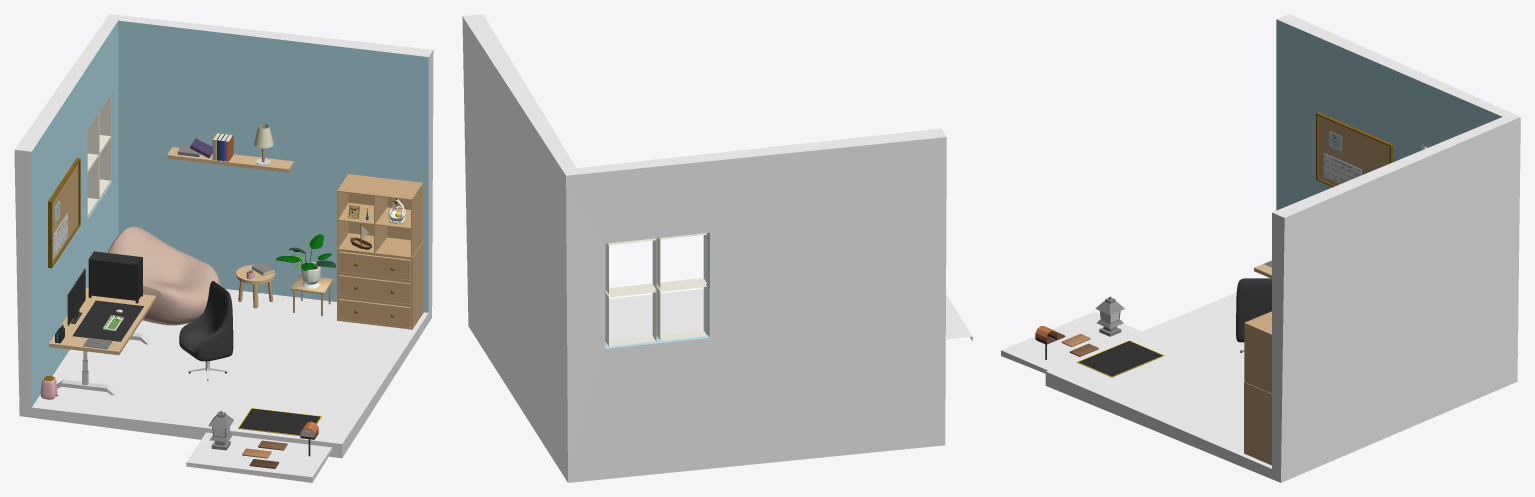
Rendered from finale.glb.
The picture shows the model from 3 angles, left to right: view 1: azimuth 30°, elevation 25°; view 2: azimuth 150°, elevation 25°; view 3: azimuth 270°, elevation 25°; orthographic projection. The views are drawn at different scales.
Parts seen in each view (by area): view 1: Room, Cube.021, Cube.020, Beanbag, outdoor floor, Cube.011, PC, Window, Board, Table Top, Mouse pad, Plane.001 (+7 smaller); view 2: Room, Window, outdoor floor; view 3: Room, outdoor floor, Board, Cube.021, Cube.020, Plane.001, Cube.011, Reversal-Forex-Chart-Patterns-Cheat-Sheet-1, Plane.002.
Boxes of the visible parts, x1,y1,x2,y2 form: Room: (14,14,433,458); Cube.021: (337,241,423,329); Cube.020: (337,174,422,258); Beanbag: (107,226,220,325); outdoor floor: (186,432,332,482); Cube.011: (179,281,233,361); PC: (88,251,142,300); Window: (87,93,111,217); Board: (48,158,80,268); Table Top: (49,287,156,355); Mouse pad: (72,300,143,341); Plane.001: (238,408,321,435); Room: (462,14,946,482); Window: (605,233,707,346); outdoor floor: (945,293,972,340); Room: (1045,14,1520,482); outdoor floor: (1001,311,1141,373); Board: (1316,112,1393,186); Cube.021: (1244,382,1271,465); Cube.020: (1244,311,1271,393); Plane.001: (1077,340,1164,377); Cube.011: (1236,278,1271,342); Reversal-Forex-Chart-Patterns-Cheat-Sheet-1: (1323,153,1361,183); Plane.002: (1095,296,1124,336).
Size of the model in its own units: 62.16 by 38.49 by 66.93.
Materials: 41 (4 with a texture image).
